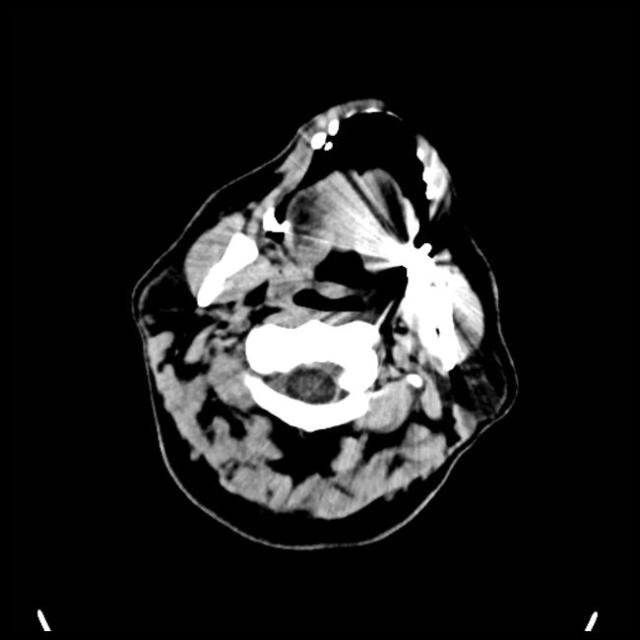lesion: (127, 94, 523, 550)
